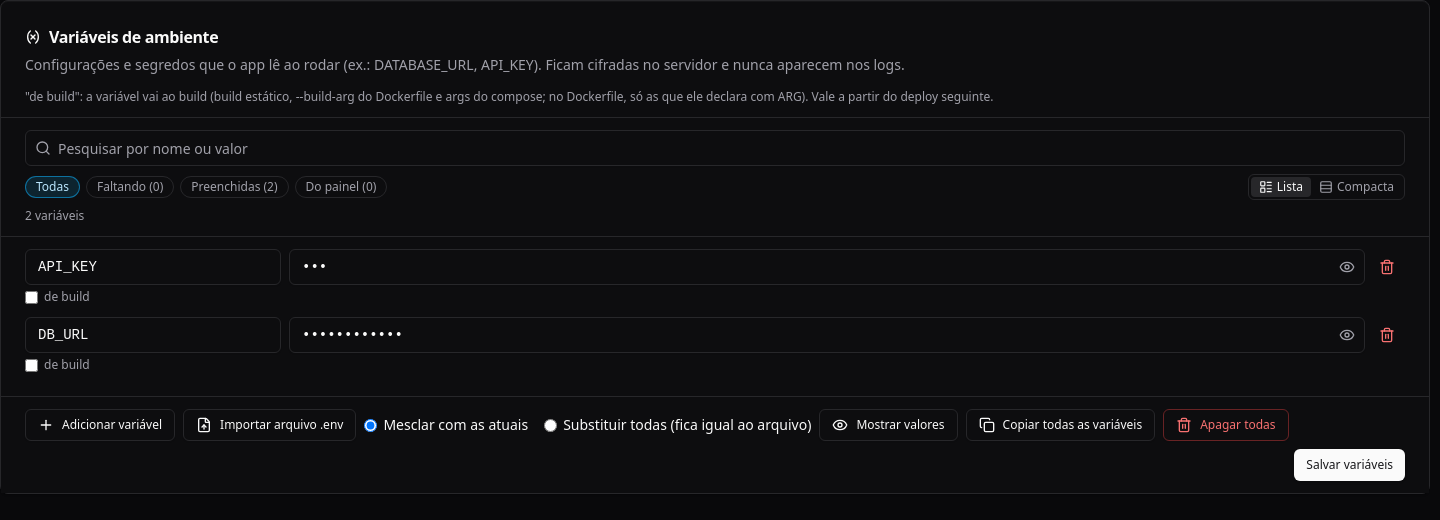
Test: ProjectEnvCard — mostrar, copiar e apagar tudo › o olho de uma linha continua valendo sozinho; valor visível ganha o botão de copiar
Expected: the password field showing "abc" is shown, [289,249,1365,285]
What coordinates should you click on to do the following:
click the 1st button named "Mostrar valor"
I would click on:
 (1347, 267)
Its box is [1329,249,1365,285].
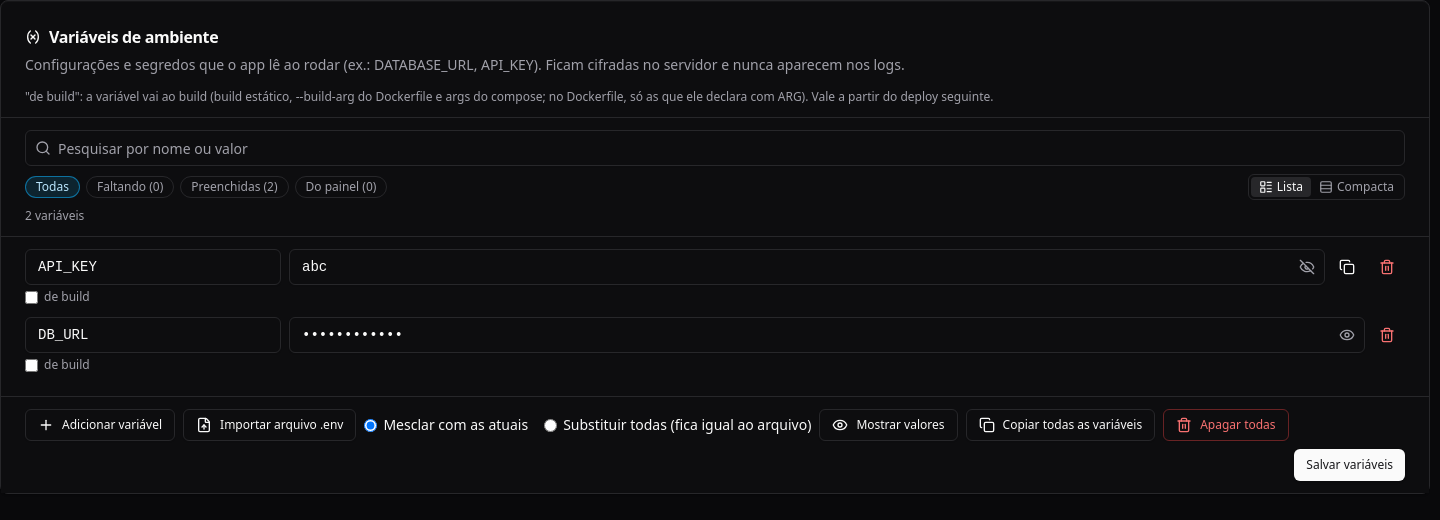
What coordinates should you click on to do the following:
click the button named "Copiar valor de API_KEY"
I would click on:
 (1347, 267)
Its box is [1329,249,1365,285].
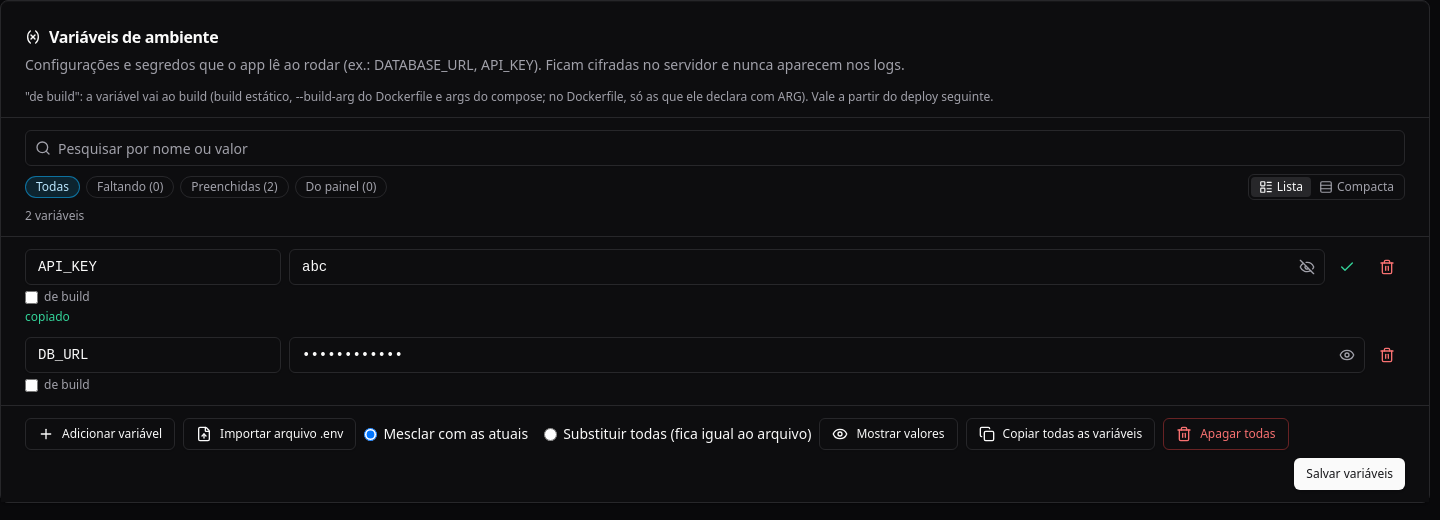
Expected: the text "copiado" is shown, [25,308,70,325]
